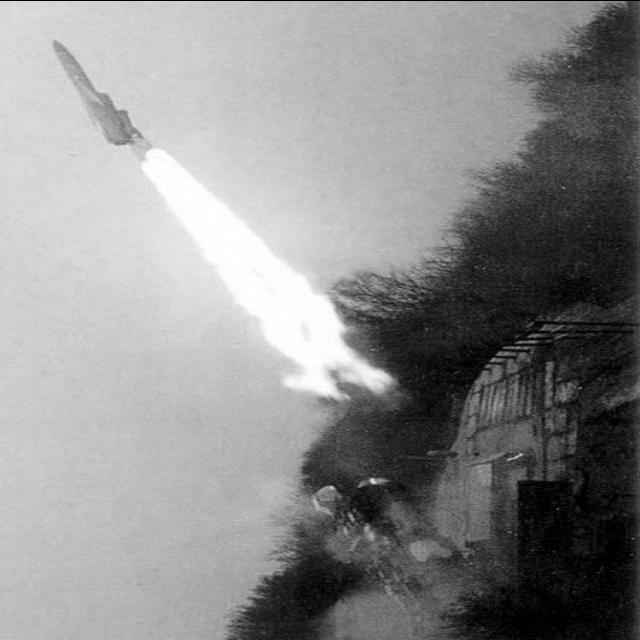missile: (39, 37, 167, 163)
